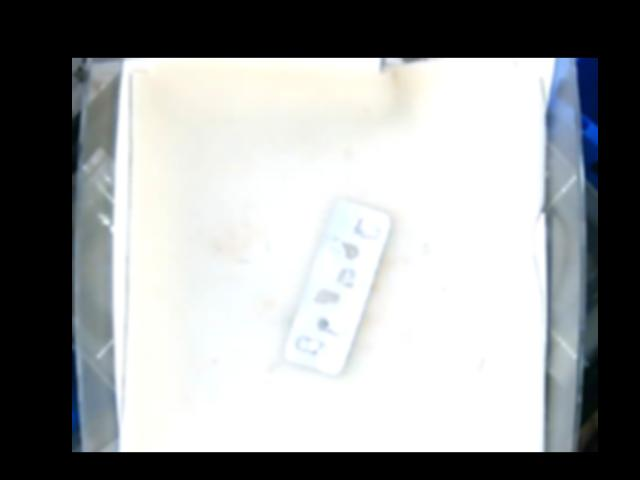Medicine: (286, 200, 388, 377)
